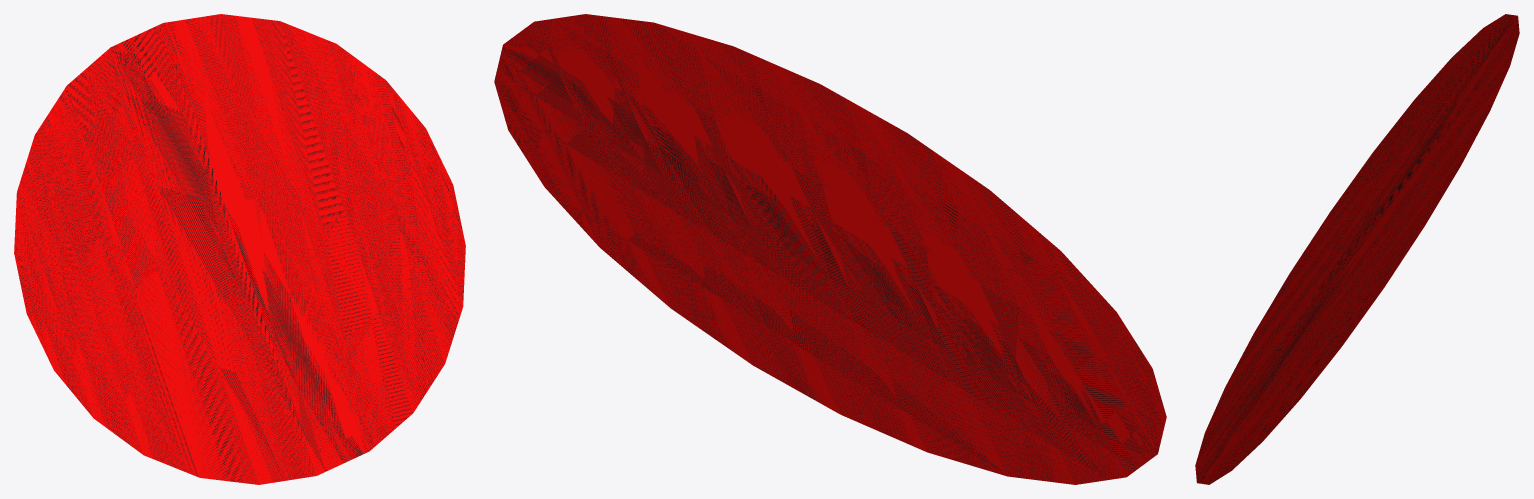
File: original-118.obj
3 renders of one model, left to right at view 1: azimuth 30°, elevation 25°; view 2: azimuth 150°, elevation 25°; view 3: azimuth 270°, elevation 25°, orthographic. The views are drawn at different scales.
Parts seen in each view (by area): view 1: 3dw.47c68395a5775e10d9deb3f829cc2475/Model/Component_18_1/Compon; view 2: 3dw.47c68395a5775e10d9deb3f829cc2475/Model/Component_18_1/Compon; view 3: 3dw.47c68395a5775e10d9deb3f829cc2475/Model/Component_18_1/Compon.
Part boxes in pixels (x1,y1,x2,y2): 3dw.47c68395a5775e10d9deb3f829cc2475/Model/Component_18_1/Compon: (14,14,465,484); 3dw.47c68395a5775e10d9deb3f829cc2475/Model/Component_18_1/Compon: (494,14,1166,484); 3dw.47c68395a5775e10d9deb3f829cc2475/Model/Component_18_1/Compon: (1195,14,1519,484).
Size of the model in its own units: 0.00577 by 0.00476 by 0.00331.
